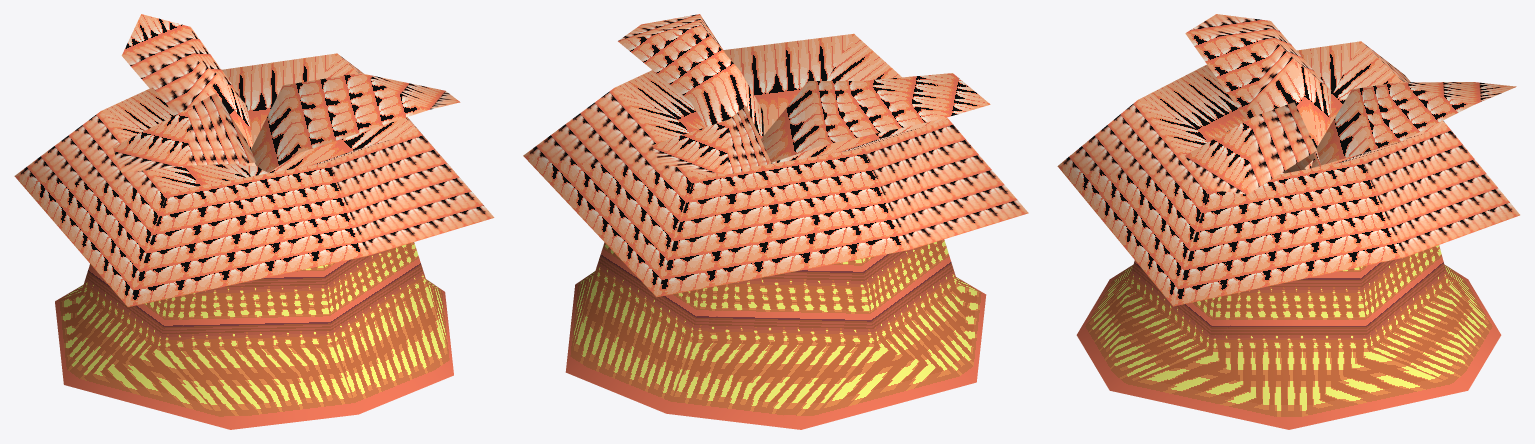
The model's file is 3201IMFY08_03.gltf.
The picture shows the model from 3 angles, left to right: view 1: azimuth 30°, elevation 25°; view 2: azimuth 150°, elevation 25°; view 3: azimuth 270°, elevation 25°; orthographic projection. The views are drawn at different scales.
Visible parts, largest first — view 1: 3201IMFY08_03; view 2: 3201IMFY08_03; view 3: 3201IMFY08_03.
Boxes of the visible parts, x1=… form: 3201IMFY08_03: x1=14, y1=14, x2=494, y2=429; 3201IMFY08_03: x1=523, y1=14, x2=1028, y2=429; 3201IMFY08_03: x1=1057, y1=14, x2=1519, y2=429.
Bounding box in the file's own units: 0.6943 × 0.4468 × 0.7158.
2 materials, 2 textured.
